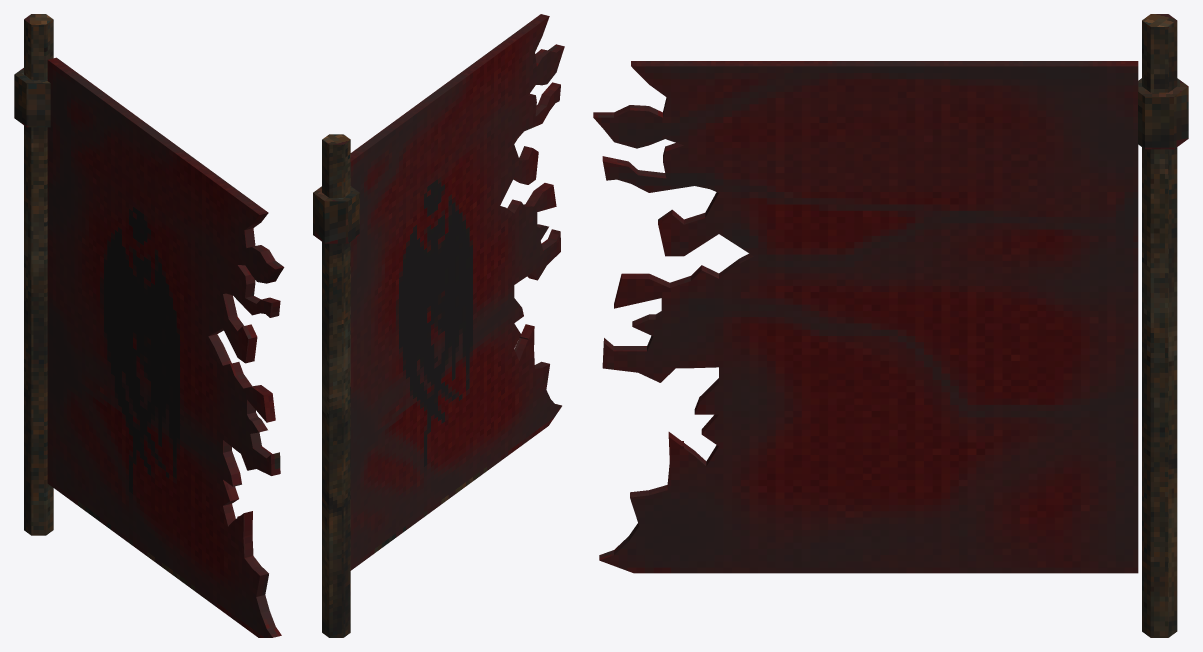
The model's file is flag_wt.fbx.
3 views of the same model, side by side, from view 1: azimuth 30°, elevation 25°; view 2: azimuth 150°, elevation 25°; view 3: azimuth 270°, elevation 25° (orthographic). The views are drawn at different scales.
Parts seen in each view (by area): view 1: Cylinder.001; view 2: Cylinder.001; view 3: Cylinder.001.
Part boxes in pixels (left/top/right/bottom): Cylinder.001: left=14, top=14, right=284, bottom=637; Cylinder.001: left=313, top=14, right=564, bottom=637; Cylinder.001: left=593, top=14, right=1188, bottom=637.
Bounding box in the file's own units: 129 × 1736 × 1532.
